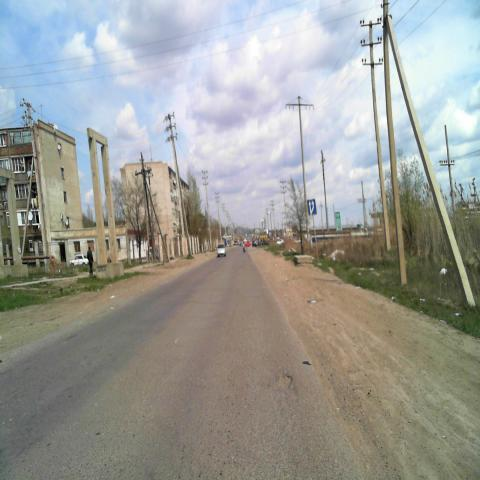5_15_3: (307, 198, 316, 216)
